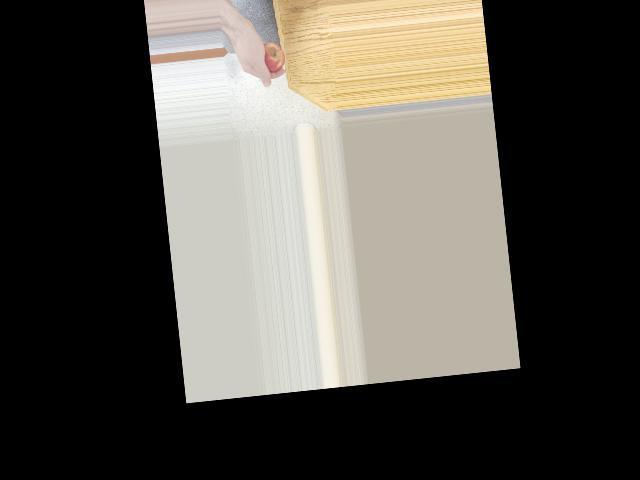apple: (254, 40, 285, 73)
